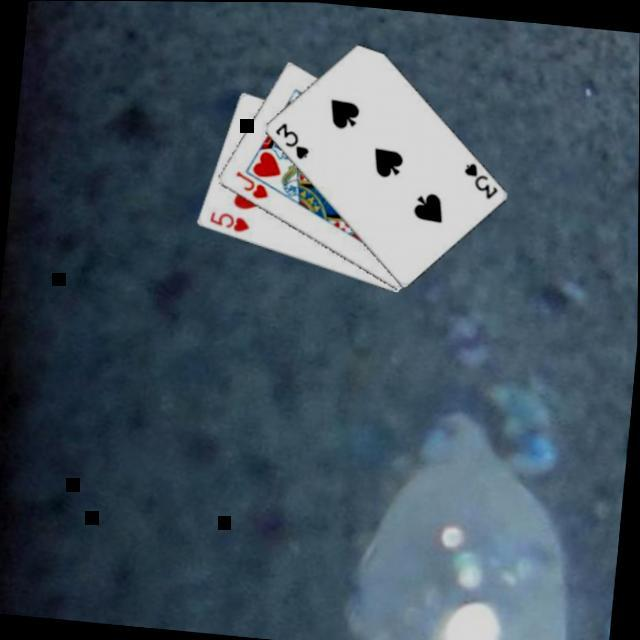3S: (267, 114, 312, 160), (456, 156, 501, 200)
5H: (203, 205, 251, 233)
JH: (228, 165, 271, 200)
